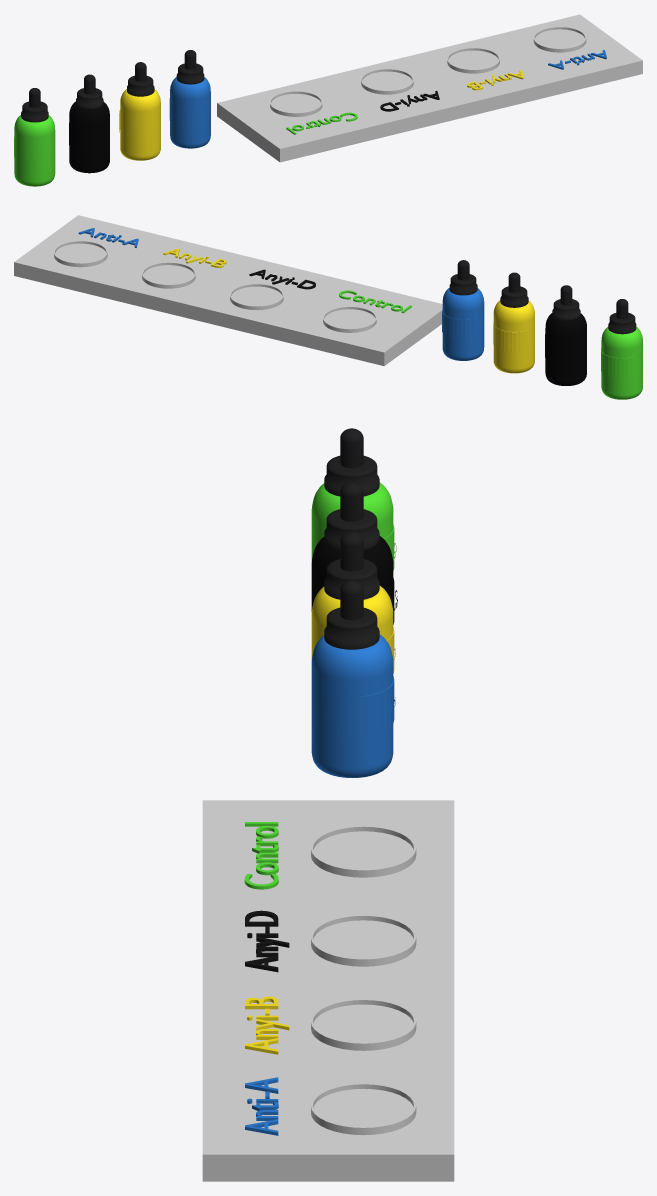
The picture shows the model from 3 angles, top to bottom: view 1: azimuth 30°, elevation 25°; view 2: azimuth 150°, elevation 25°; view 3: azimuth 270°, elevation 25°; orthographic projection. The views are drawn at different scales.
Parts seen in each view (by area): view 1: Cube.174, Text.008, Cylinder.157, Text.006, Cylinder.169, Cylinder, Cylinder.039, Cylinder.040, Cylinder.041, Cylinder.751, Cylinder.700, Cylinder.164 (+5 smaller); view 2: Cube.174, Cylinder.157, Text.006, Cylinder.169, Text.008, Cylinder.039, Cylinder.041, Cylinder, Cylinder.040, Cylinder.751, Cylinder.696, Cylinder.164 (+5 smaller); view 3: Cube.174, Cylinder.157, Cylinder, Cylinder.039, Cylinder.040, Cylinder.041, Cylinder.751, Cylinder.700, Text.008, Cylinder.696, Cylinder.164, Cylinder.169 (+5 smaller).
Boxes of the visible parts, x1=… form: Cube.174: x1=217, y1=14, x2=642, y2=162; Text.008: x1=14, y1=115, x2=55, y2=186; Cylinder.157: x1=169, y1=77, x2=210, y2=148; Text.006: x1=119, y1=89, x2=160, y2=160; Cylinder.169: x1=69, y1=101, x2=109, y2=173; Cylinder: x1=533, y1=26, x2=586, y2=52; Cylinder.039: x1=447, y1=47, x2=499, y2=73; Cylinder.040: x1=361, y1=69, x2=413, y2=94; Cylinder.041: x1=270, y1=91, x2=322, y2=116; Cylinder.751: x1=176, y1=50, x2=204, y2=84; Cylinder.700: x1=21, y1=88, x2=48, y2=122; Cylinder.164: x1=127, y1=62, x2=154, y2=96; Cube.174: x1=14, y1=215, x2=442, y2=365; Cylinder.157: x1=442, y1=288, x2=484, y2=360; Text.006: x1=493, y1=300, x2=534, y2=373; Cylinder.169: x1=545, y1=313, x2=586, y2=385; Text.008: x1=601, y1=326, x2=642, y2=399; Cylinder.039: x1=142, y1=262, x2=195, y2=288; Cylinder.041: x1=323, y1=306, x2=376, y2=332; Cylinder: x1=54, y1=241, x2=107, y2=267; Cylinder.040: x1=230, y1=283, x2=283, y2=310; Cylinder.751: x1=449, y1=260, x2=477, y2=295; Cylinder.696: x1=552, y1=285, x2=580, y2=320; Cylinder.164: x1=500, y1=272, x2=528, y2=307; Cube.174: x1=202, y1=800, x2=454, y2=1181; Cylinder.157: x1=311, y1=634, x2=395, y2=777; Cylinder: x1=311, y1=1083, x2=416, y2=1135; Cylinder.039: x1=311, y1=999, x2=416, y2=1050; Cylinder.040: x1=311, y1=915, x2=416, y2=966; Cylinder.041: x1=311, y1=826, x2=416, y2=877; Cylinder.751: x1=324, y1=580, x2=379, y2=649; Cylinder.700: x1=324, y1=428, x2=379, y2=496; Text.008: x1=311, y1=482, x2=396, y2=570; Cylinder.696: x1=324, y1=482, x2=379, y2=549; Cylinder.164: x1=324, y1=531, x2=379, y2=599; Cylinder.169: x1=311, y1=536, x2=397, y2=624.
Bounding box in the file's own units: 193 × 30.47 × 35.69.
